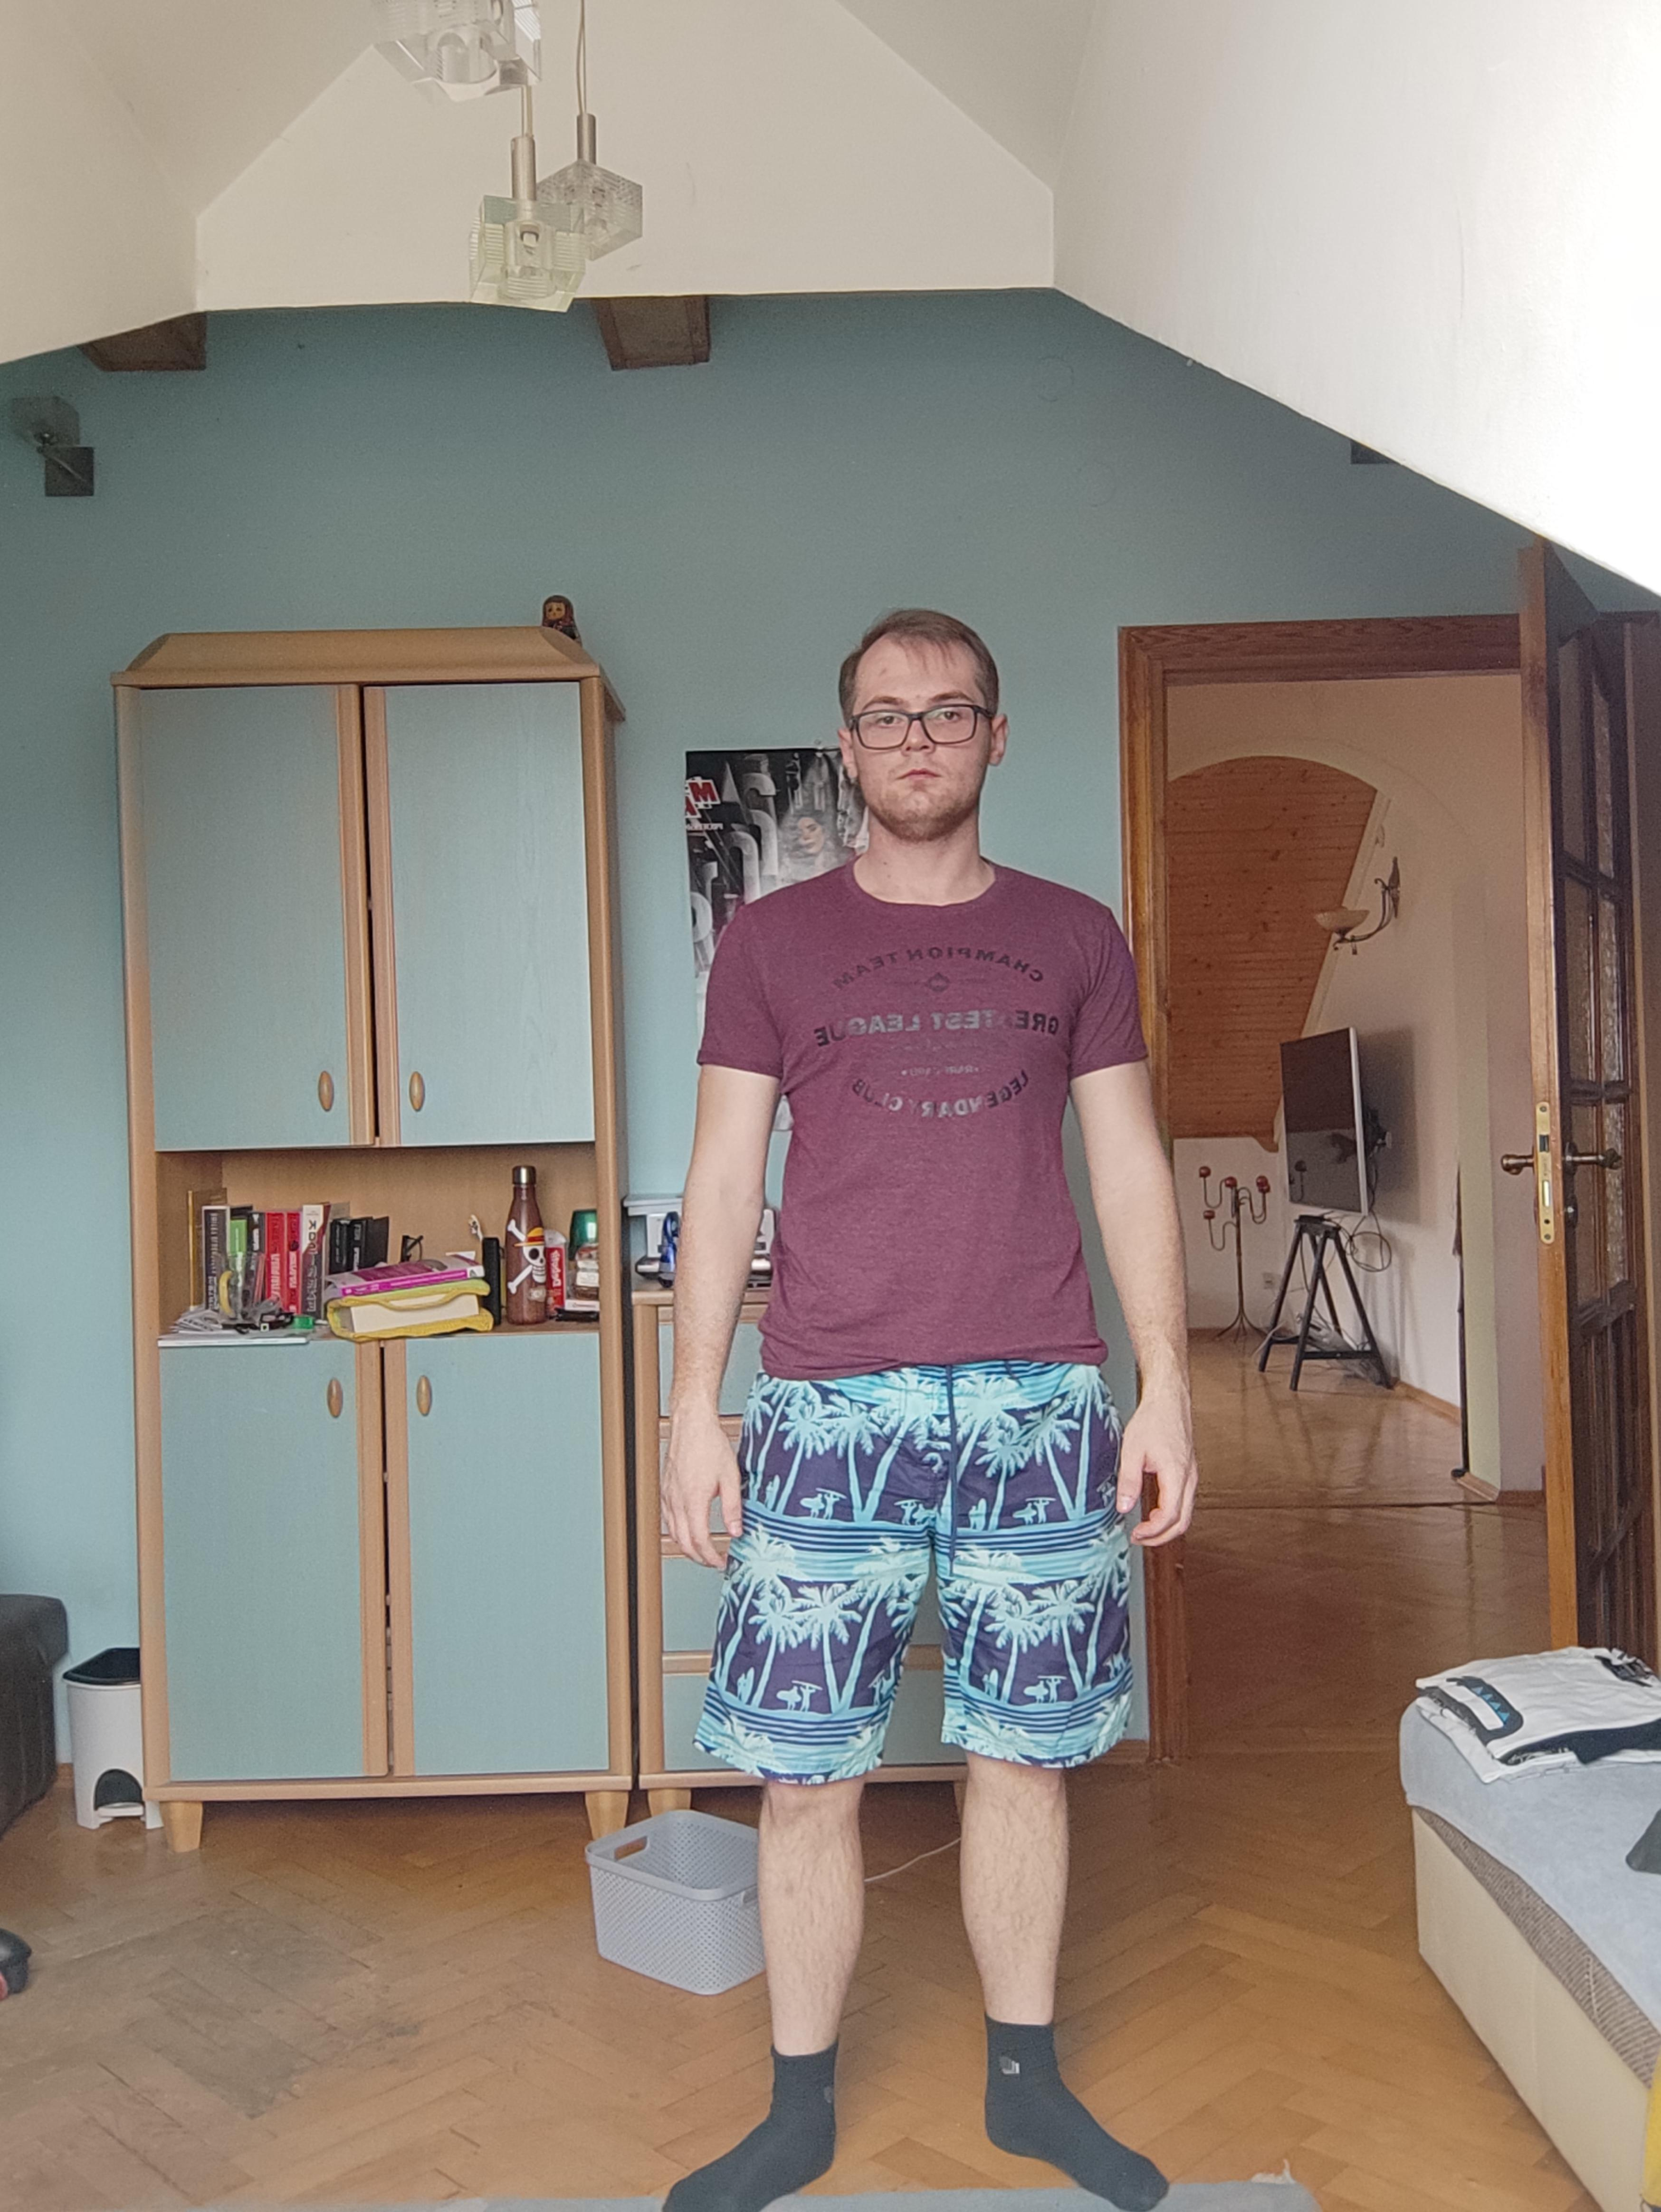Tshirt: (693, 860, 1152, 1382)
short: (696, 1340, 1138, 1788)
